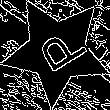P_SW: (26, 22, 87, 80)
